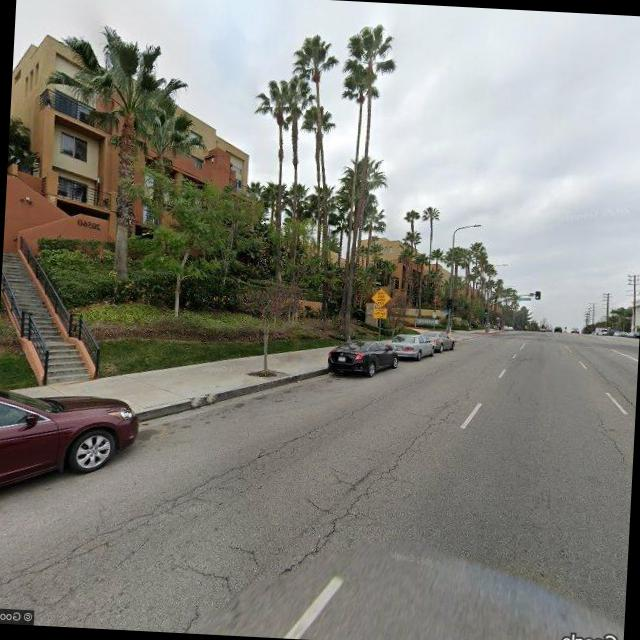pothole: (36, 396, 352, 586), (290, 396, 456, 578), (596, 408, 627, 466)
